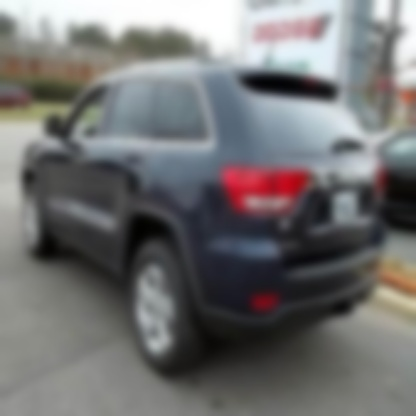Vehicle: (21, 59, 389, 377)
